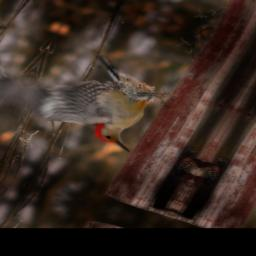Woodpecker: (9, 40, 176, 155)
